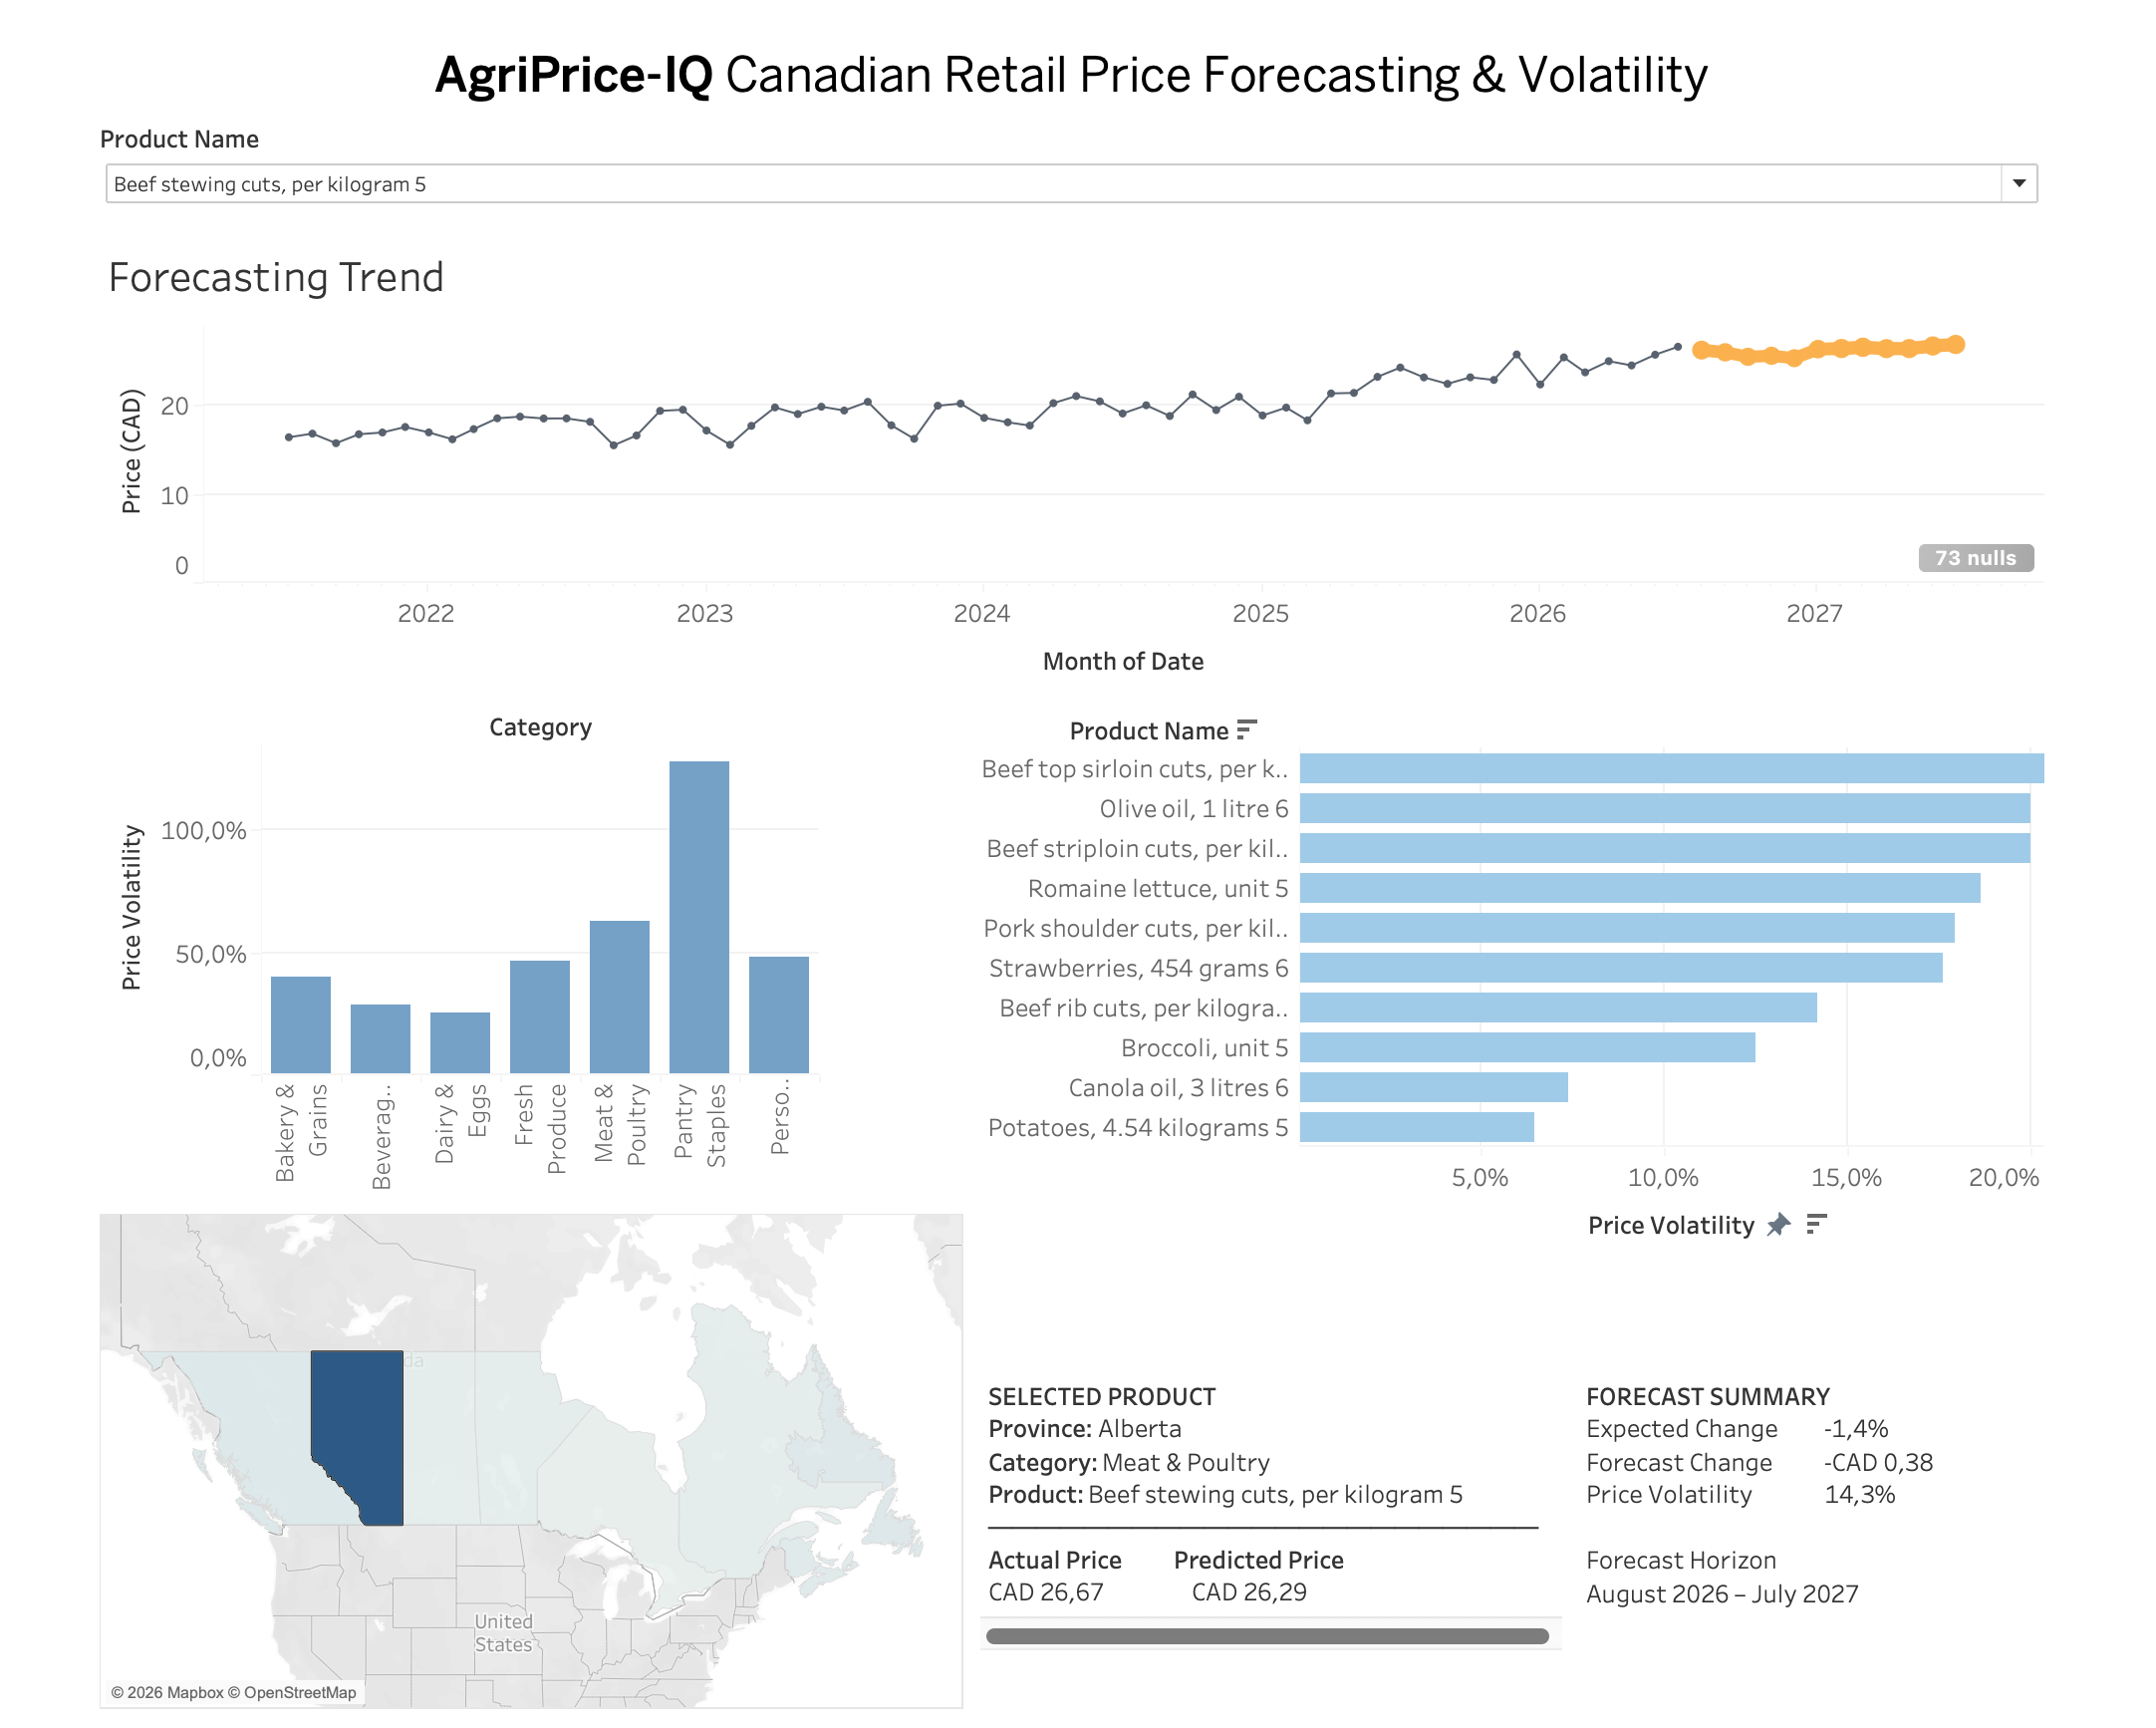

Layout of this report page (visuals, bound fields, positions):
{"tool":"tableau","page":{"name":"Dashboard 1","canvas":[1000,1000],"units":"permille","ordinal":0},"visuals":[{"type":"title","box":[8,11,984,53.6]},{"type":"filter","title":"Forecast_Trend","param":"[federated.1na22c71ykp2f410phjwc0vpcb7i].[none:product_name:nk]","box":[8,64.6,984,67.5]},{"type":"worksheet","title":"Forecast_Trend","mark":"Line","cols":["date"],"box":[8,132.2,984,269.3]},{"type":"worksheet","title":"Category_Volatility","mark":"Automatic","rows":["Calculation_0798913474674700"],"cols":["category"],"box":[8,401.5,441.9,292.3]},{"type":"worksheet","title":"Product_Volatility","mark":"Automatic","rows":["product_name"],"cols":["Calculation_0798913474674700"],"box":[449.9,401.5,542.1,388]},{"type":"worksheet","title":"Map_Province","mark":"Multipolygon","box":[8,693.8,441.9,295.2]},{"type":"worksheet","title":"KPI_Latest_Price","mark":"Text","box":[449.9,789.5,300.1,199.6]},{"type":"worksheet","title":"Forecast_Summary","mark":"Automatic","box":[750,789.5,242,199.6]}]}

Visuals, with their boxes on the dashboard's canvas, which has no fixed pixel size, in thousandths of its width and height (x1, y1, x2, y2). These are canvas units, not pixel positions in the 2156x1728 screenshot, which may show the page scaled, cropped or inside an application window:
title: 8,11,992,65
"Forecast_Trend" filter: 8,65,992,132
"Forecast_Trend" worksheet (Line marks): 8,132,992,402
"Category_Volatility" worksheet: 8,402,450,694
"Product_Volatility" worksheet: 450,402,992,790
"Map_Province" worksheet (Multipolygon marks): 8,694,450,989
"KPI_Latest_Price" worksheet (Text marks): 450,790,750,989
"Forecast_Summary" worksheet: 750,790,992,989
